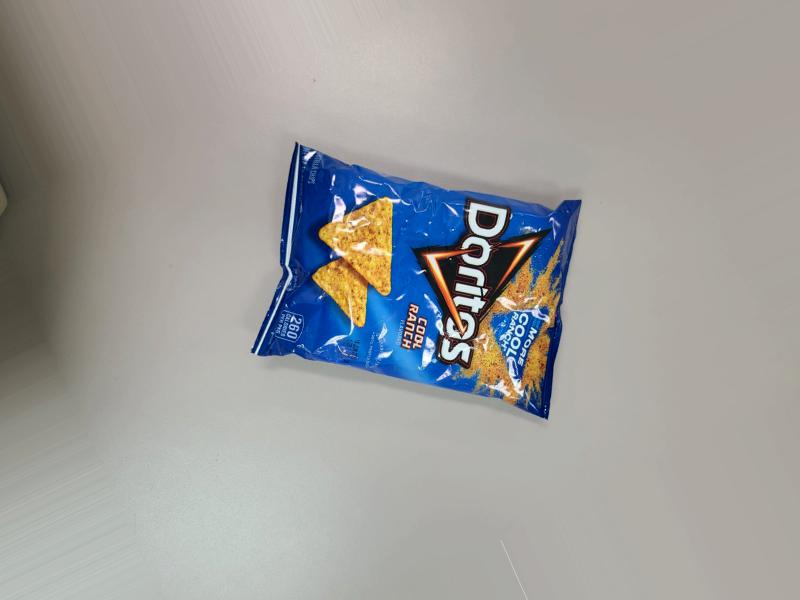doritos: (256, 119, 588, 433)
